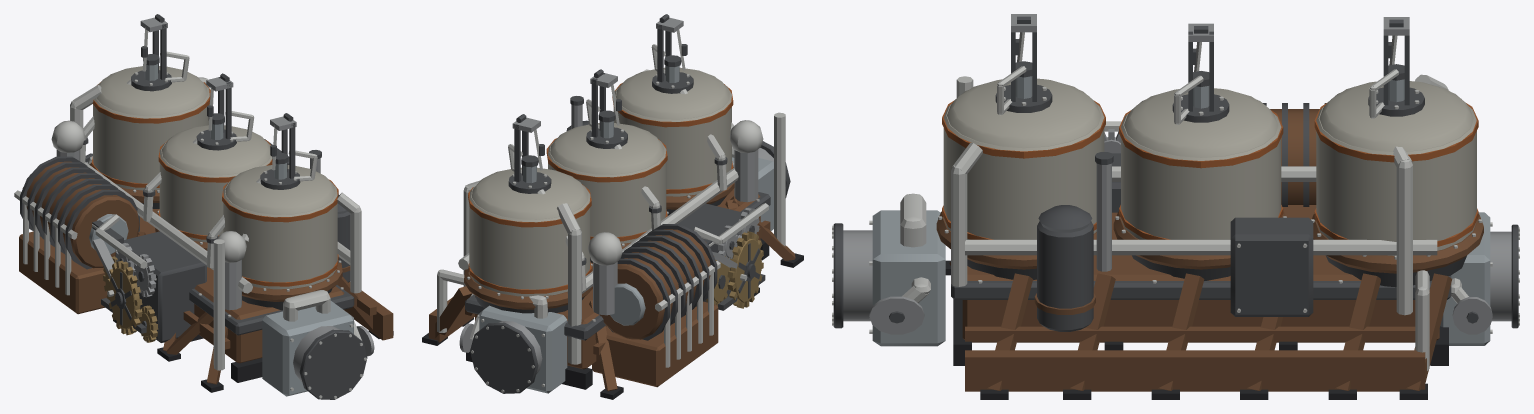
Rendered from steam-engine.glb.
The picture shows the model from 3 angles, left to right: view 1: azimuth 30°, elevation 25°; view 2: azimuth 150°, elevation 25°; view 3: azimuth 270°, elevation 25°; orthographic projection. The views are drawn at different scales.
Visible parts, largest first — view 1: body, anim_spin_flywheel; view 2: body, anim_spin_flywheel; view 3: body.
Boxes of the visible parts, box(x1,y1,x2,y2) form: body: box(14, 14, 393, 399); anim_spin_flywheel: box(107, 260, 142, 335); body: box(422, 14, 803, 399); anim_spin_flywheel: box(727, 231, 763, 308); body: box(832, 14, 1519, 399).
Size of the model in its own units: 3.07 by 3.02 by 5.83.
